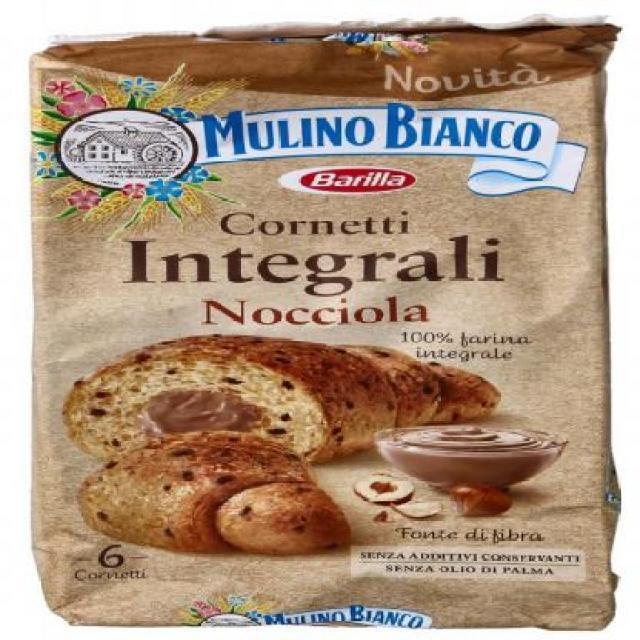Merendine: (12, 20, 630, 632)
